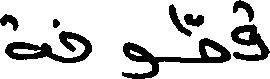X: (232, 0, 269, 65), (0, 9, 43, 64), (200, 10, 229, 67), (124, 37, 158, 78), (60, 26, 90, 67)
